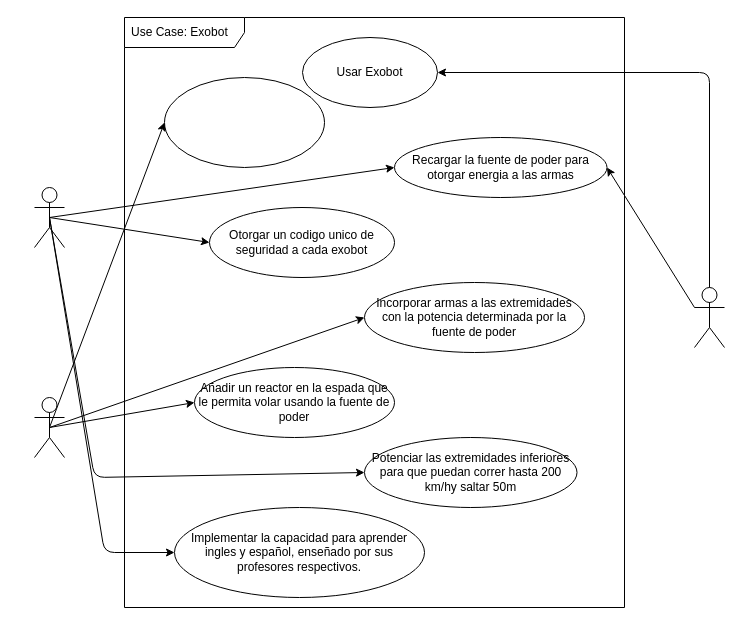
The diagram is 749 pixels wide and 625 high, and some of its shapes have lost their labels. Here are the shapes that lost their labels. From the top down, the box of each, then its label:
(164, 76, 324, 168): Armar un exoesqueleto que mejora la fuerza, habilidades y movimiento físico
(34, 186, 64, 248): IABOT
(694, 286, 724, 348): Soldado
(34, 396, 64, 458): Mecatrónico
